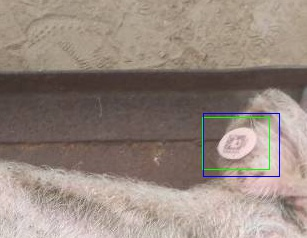text: (202, 117, 269, 169)
